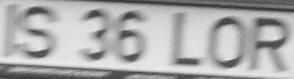3: (73, 4, 110, 64)
6: (113, 4, 150, 66)
I: (1, 1, 22, 65)
L: (168, 10, 206, 72)
O: (210, 14, 246, 70)
R: (250, 16, 291, 74)
S: (23, 2, 60, 64)
